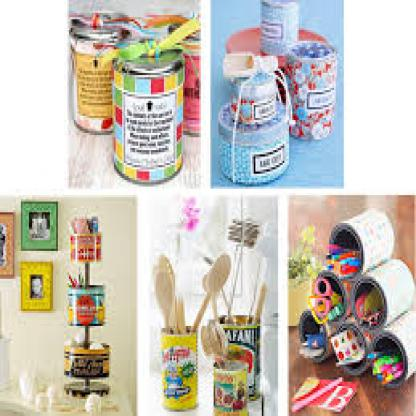METAL: (111, 54, 181, 180), (69, 26, 132, 133), (217, 99, 287, 182), (286, 39, 336, 137), (328, 206, 393, 274), (350, 257, 413, 326), (215, 315, 259, 399), (368, 307, 414, 386), (167, 22, 198, 135), (157, 330, 196, 408), (231, 73, 275, 120), (260, 0, 298, 52), (212, 362, 246, 414), (64, 285, 104, 324), (63, 343, 106, 375), (68, 232, 101, 260), (63, 382, 109, 399)
